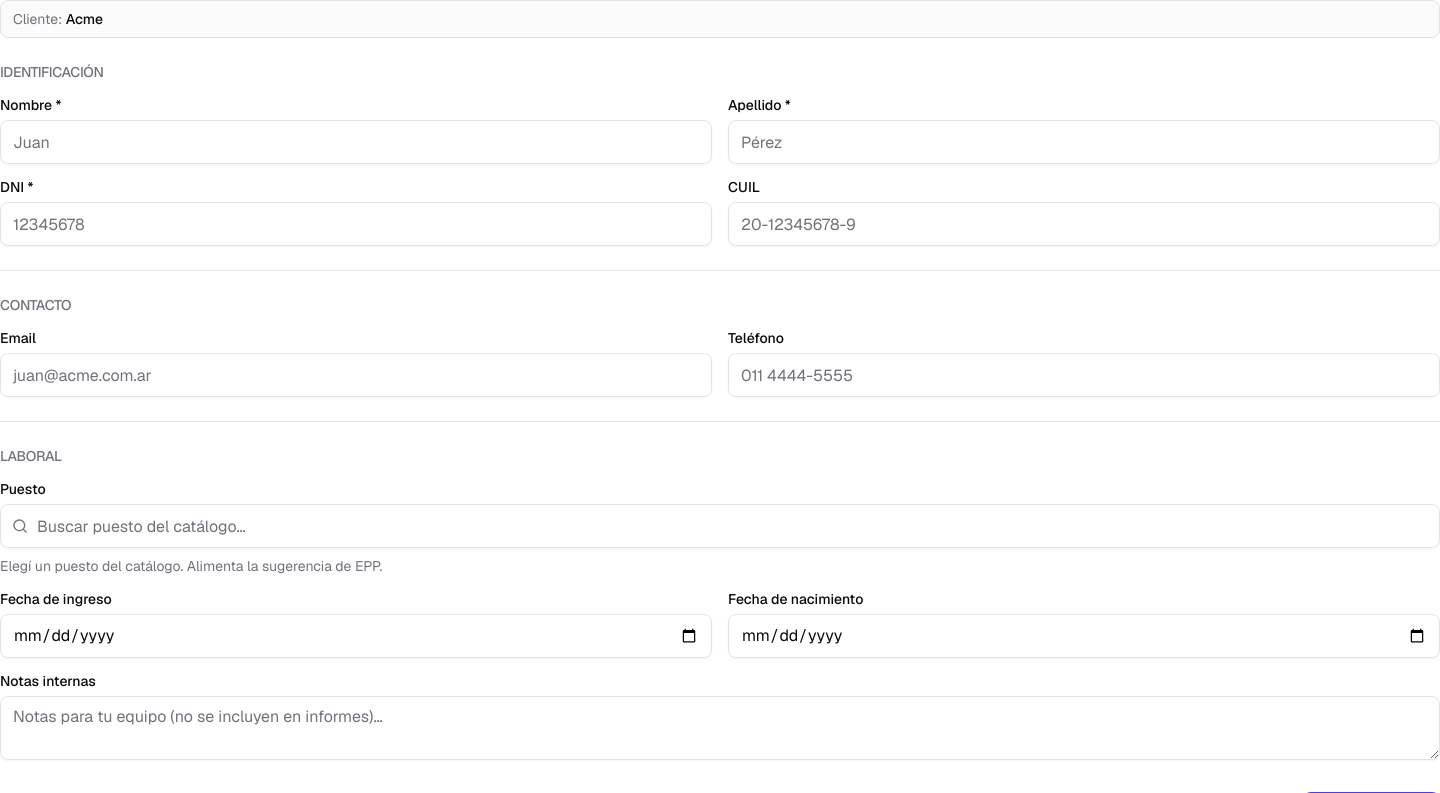
EmpleadoForm · selector de puesto (T-128) › 3. crear-inline → createPuestoAction y queda seleccionado
# Abrir el combobox y disparar "Crear puesto nuevo".
Type "Tornero" into the search field labelled "Buscar puesto". click: [720, 526]
box: [0,504,1439,548]
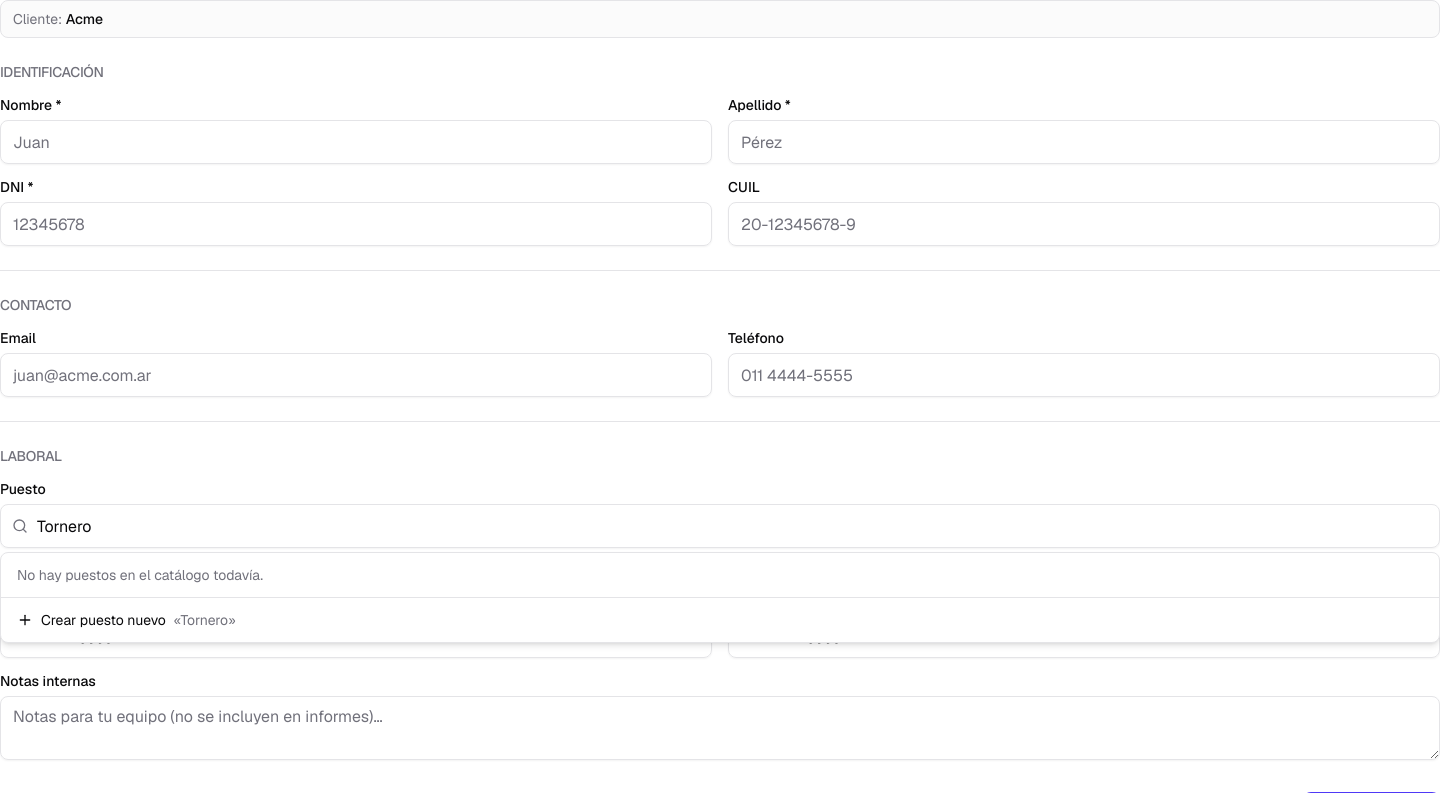
Click the button "Crear puesto nuevo «Tornero»". click: [103, 620]
box: [5,602,1435,638]
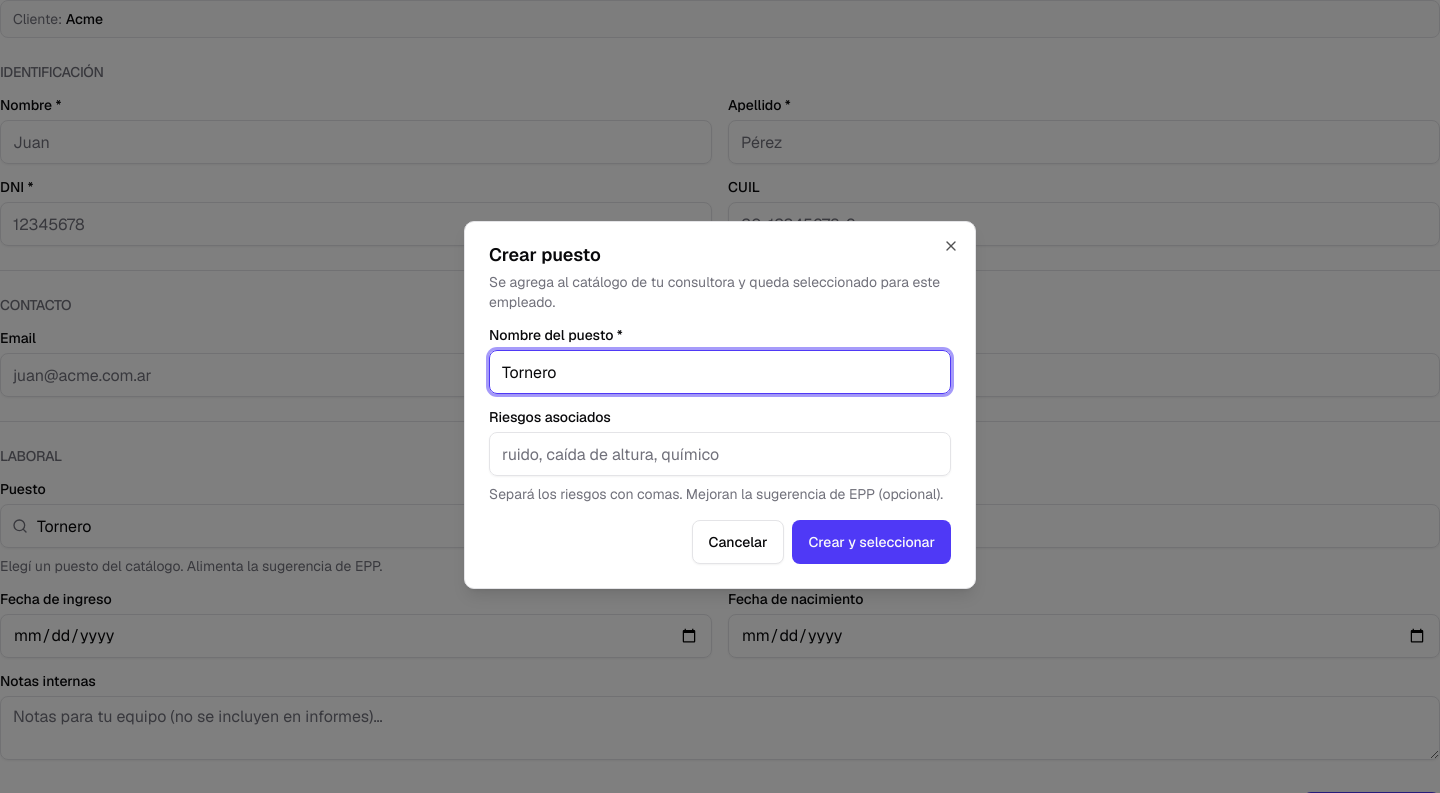
Expected: the field labelled "Nombre del puesto *" holds "Tornero", [489,350,951,394]
Type "ruido, caída de altura" into the field labelled "Riesgos asociados". click: [720, 454]
box: [489,432,951,476]
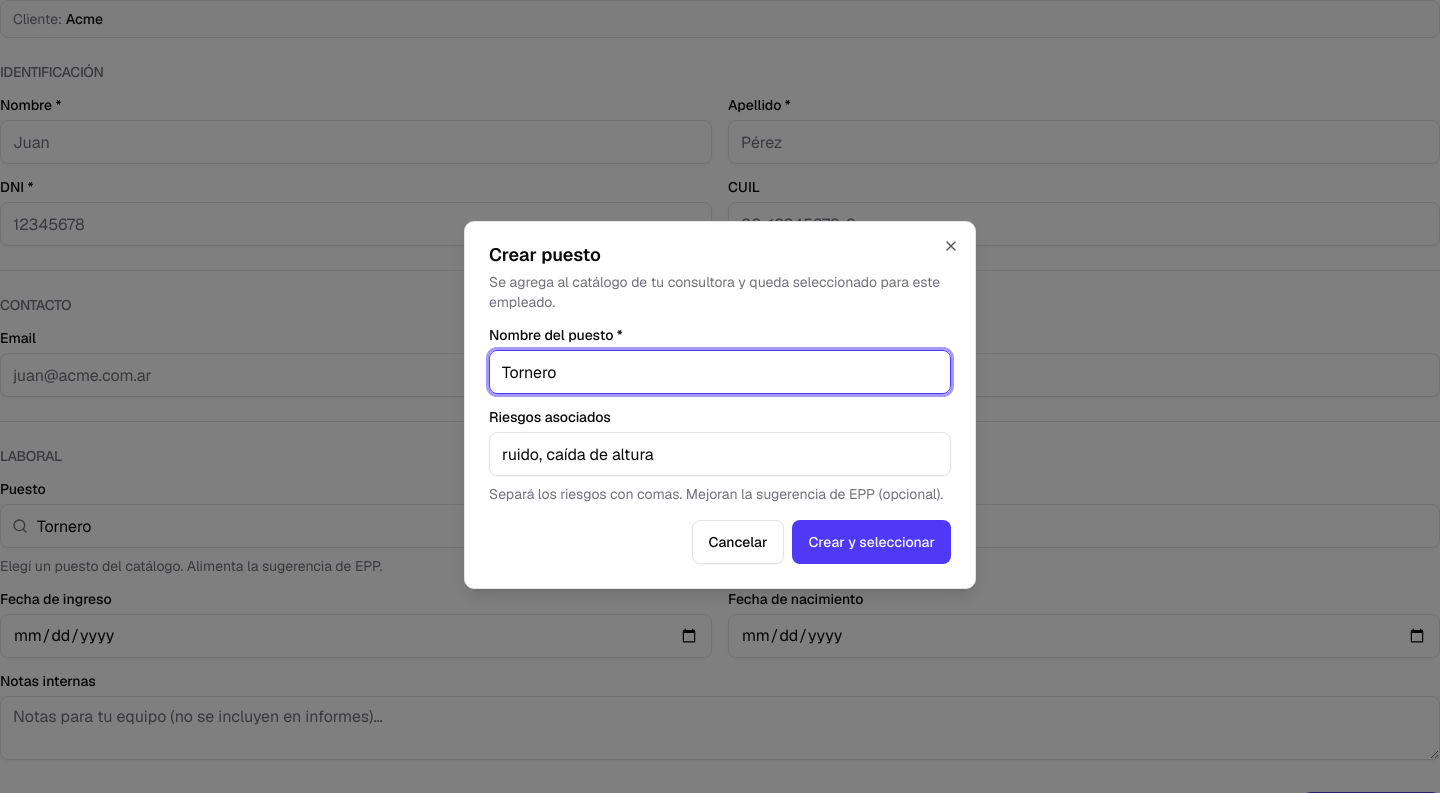
Click the button "Crear y seleccionar". click: [872, 542]
box: [792,520,951,564]
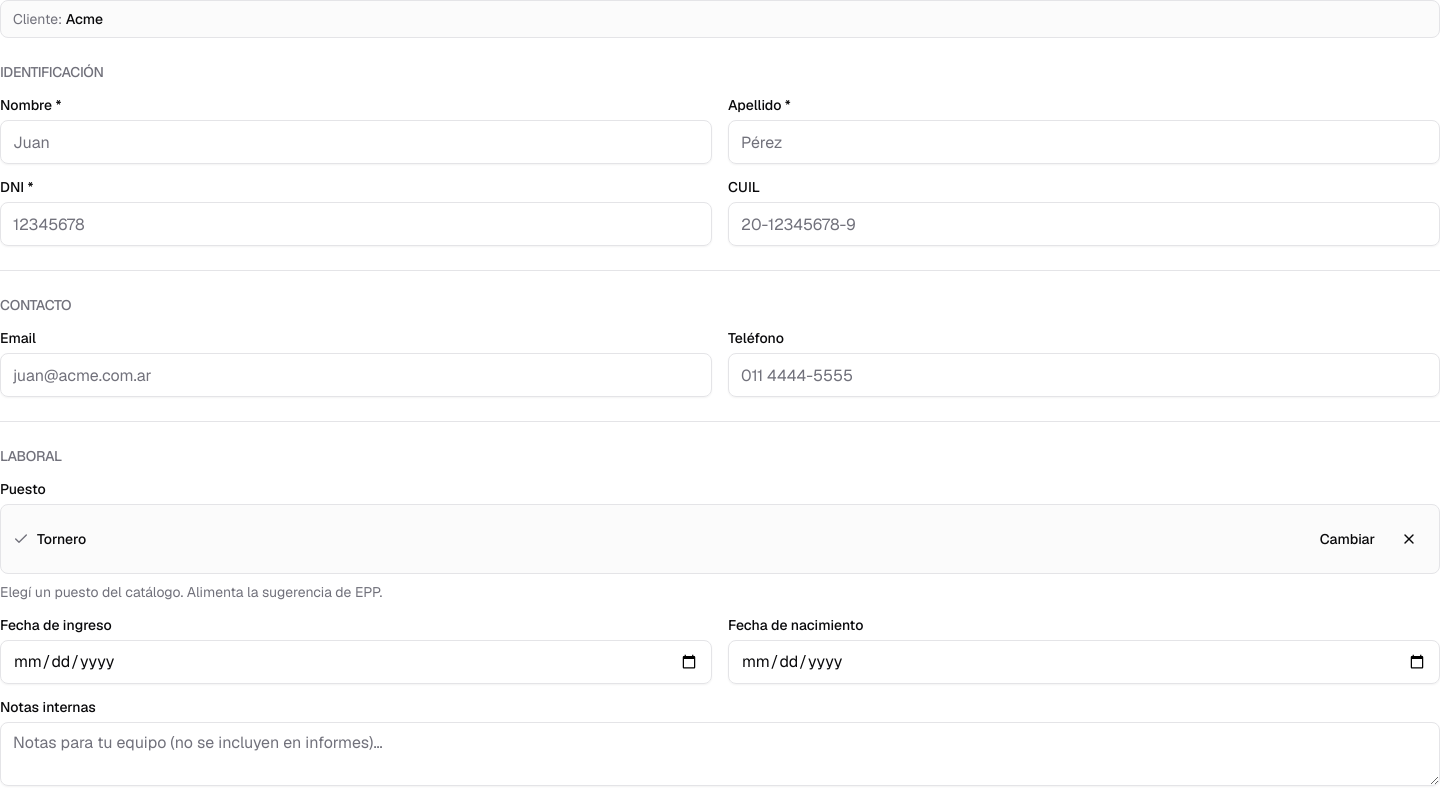
Expected: the text "Tornero" is shown, [37,529,86,549]
